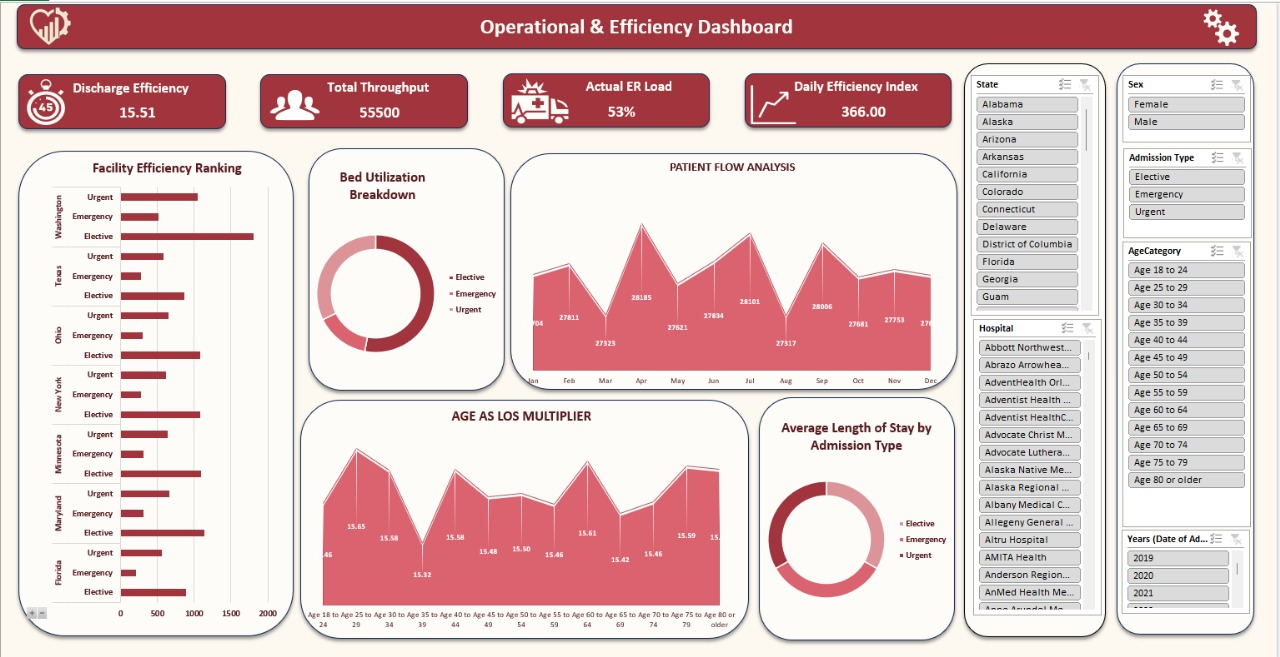

What the dashboard file says about the page in this screenshot:
{"tool":"powerbi","page":{"name":"Duplicate of Efficiency","canvas":[1280,720],"ordinal":2},"visuals":[{"type":"shape","box":[0,620.2,214.8,95.7],"z":0},{"type":"shape","box":[0,0,1280.2,169.8],"z":1000,"group":"g1"},{"type":"shape","box":[-0.4,200.2,214.8,95.7],"z":1000},{"type":"shape","box":[1048,8.6,211.3,194.1],"z":2000,"group":"g1"},{"type":"shape","box":[-0.4,280.4,214.8,95.7],"z":2000},{"type":"shape","box":[9.4,10.4,211.3,193.4],"z":3000,"group":"g1"},{"type":"shape","box":[-0.4,360.6,214.8,95.7],"z":3000},{"type":"shape","box":[0,453.7,214.8,95.7],"z":4000},{"type":"slicer","fields":{"Values":["الجدول2_3.Sex"]},"box":[22.4,23.3,184.6,84.5],"z":5000,"group":"g1"},{"type":"shape","box":[0,537.4,214.8,95.7],"z":5000},{"type":"textbox","box":[302.7,0,444.2,97.5],"z":6000,"group":"g1"},{"type":"cardVisual","fields":{"Data":["الجدول2_3.AVG lenght of stay"]},"box":[0.9,620.2,207,95.7],"z":6000},{"type":"shape","box":[794.3,14.3,235.7,30],"z":7000,"group":"g1"},{"type":"shape","box":[213.8,453.8,523.8,262.5],"z":7000},{"type":"shape","box":[794.3,87.1,235.7,30],"z":8000,"group":"g1"},{"type":"azureMap","fields":{"Category":["الجدول2_3.State"],"Size":["CountNonNull(الجدول2_3.Hospital)"]},"box":[228.6,467.5,494.2,235.5],"z":8000},{"type":"shape","box":[794.3,50,235.7,31.4],"z":9000,"group":"g1"},{"type":"shape","box":[738.3,454.6,541.7,262.2],"z":9000},{"type":"textbox","box":[820,14.3,178.6,35.7],"z":10000,"group":"g1"},{"type":"shape","box":[794.4,117.3,235.5,31.1],"z":10000},{"type":"textbox","box":[800.4,87.1,214.8,41.4],"z":11000,"group":"g1"},{"type":"cardVisual","fields":{"Data":["الجدول2_3.emergency admissions"]},"box":[0,536.5,228.6,95.7],"z":11000},{"type":"textbox","box":[794.4,50,213.9,37.1],"z":12000,"group":"g1"},{"type":"cardVisual","fields":{"Data":["الجدول2_3.total admission"]},"box":[15.5,450.2,192.3,99.2],"z":12000},{"type":"slicer","fields":{"Values":["الجدول2_3.AgeCategory"]},"box":[1060.9,19,186.3,175.1],"z":13000,"group":"g1"},{"type":"cardVisual","fields":{"Data":["الجدول2_3.e_-a_rate"]},"box":[22.9,366.7,183.7,63],"z":13000},{"type":"textbox","box":[8.3,418.4,189.8,34.5],"z":14000},{"type":"cardVisual","fields":{"Data":["الجدول2_3.High Risk Patients %"]},"box":[36.7,195.9,157,77.6],"z":15000},{"type":"textbox","box":[34.1,256.3,138,34.5],"z":16000},{"type":"shape","box":[215.1,196.5,396.5,261.6],"z":17000},{"type":"areaChart","title":"Count of Patient by Year","fields":{"Category":["الجدول2_3.Date of Admission.Variation.Date Hierarchy.Month","الجدول2_3.Discharge Date.Variation.Date Hierarchy.Month"],"Y":["CountNonNull(الجدول2_3.PatientID)"]},"box":[223.8,206.2,376.2,243.8],"z":18000},{"type":"cardVisual","fields":{"Data":["الجدول2_3.Avg Revenue per Day"]},"box":[36.2,291.5,162.2,62.1],"z":19000},{"type":"slicer","fields":{"Values":["الجدول2_3.State"]},"box":[22.6,111.3,186.8,72.6],"z":20000,"group":"g1"},{"type":"shape","box":[611.6,194.2,270.9,261.6],"z":20000},{"type":"pieChart","title":"Relation between  Length of Stay & Admission Type","fields":{"Category":["الجدول2_3.Admission Type"],"Y":["Sum(الجدول2_3.Length of Stay)"]},"box":[625,208.8,248.8,236.2],"z":21000},{"type":"group","id":"g1","title":"Group 1","box":[0,0,1280.2,203.7],"z":22000},{"type":"shape","box":[267.9,86.8,510.3,114.1],"z":22000,"group":"g1"},{"type":"shape","box":[882.6,195.3,396.5,261.6],"z":23000},{"type":"slicer","fields":{"Values":["الجدول2_3.Date of Admission"]},"box":[290,97.5,473.8,97.5],"z":24000,"group":"g1"},{"type":"areaChart","fields":{"Y":["Avg(الجدول2_3.Length of Stay)"],"Category":["الجدول2_3.AgeCategory"]},"box":[892.5,207.5,386.2,242.5],"z":24000},{"type":"textbox","box":[35,336.2,138.8,35],"z":25000},{"type":"clusteredColumnChart","title":"Length of Stay by BMI_Category and Admission Type","fields":{"Category":["Data.BMI_Category"],"Y":["Sum(Data.Length of Stay)"],"Series":["Data.Admission Type"]},"box":[751.3,468.4,515.8,234.6],"z":26000},{"type":"image","box":[216.5,13.8,102.6,88],"z":27000},{"type":"image","box":[48.3,53.5,70.7,38],"z":28000},{"type":"image","box":[110.4,55.2,73.3,36.2],"z":29000}]}

Visuals, with their boxes on the page's 1280x720 design canvas (x1, y1, x2, y2). These are canvas units, not pixel positions in the 1280x657 screenshot, which may show the page scaled, cropped or inside an application window:
shape: {"left": 0, "top": 620, "right": 215, "bottom": 716}
shape: {"left": 0, "top": 0, "right": 1280, "bottom": 170}
shape: {"left": 0, "top": 200, "right": 214, "bottom": 296}
shape: {"left": 1048, "top": 9, "right": 1259, "bottom": 203}
shape: {"left": 0, "top": 280, "right": 214, "bottom": 376}
shape: {"left": 9, "top": 10, "right": 221, "bottom": 204}
shape: {"left": 0, "top": 361, "right": 214, "bottom": 456}
shape: {"left": 0, "top": 454, "right": 215, "bottom": 549}
slicer - الجدول2_3.Sex: {"left": 22, "top": 23, "right": 207, "bottom": 108}
shape: {"left": 0, "top": 537, "right": 215, "bottom": 633}
textbox: {"left": 303, "top": 0, "right": 747, "bottom": 98}
cardVisual - الجدول2_3.AVG lenght of stay: {"left": 1, "top": 620, "right": 208, "bottom": 716}
shape: {"left": 794, "top": 14, "right": 1030, "bottom": 44}
shape: {"left": 214, "top": 454, "right": 738, "bottom": 716}
shape: {"left": 794, "top": 87, "right": 1030, "bottom": 117}
azureMap - الجدول2_3.State x CountNonNull(الجدول2_3.Hospital): {"left": 229, "top": 468, "right": 723, "bottom": 703}
shape: {"left": 794, "top": 50, "right": 1030, "bottom": 81}
shape: {"left": 738, "top": 455, "right": 1280, "bottom": 717}
textbox: {"left": 820, "top": 14, "right": 999, "bottom": 50}
shape: {"left": 794, "top": 117, "right": 1030, "bottom": 148}
textbox: {"left": 800, "top": 87, "right": 1015, "bottom": 128}
cardVisual - الجدول2_3.emergency admissions: {"left": 0, "top": 536, "right": 229, "bottom": 632}
textbox: {"left": 794, "top": 50, "right": 1008, "bottom": 87}
cardVisual - الجدول2_3.total admission: {"left": 16, "top": 450, "right": 208, "bottom": 549}
slicer - الجدول2_3.AgeCategory: {"left": 1061, "top": 19, "right": 1247, "bottom": 194}
cardVisual - الجدول2_3.e_-a_rate: {"left": 23, "top": 367, "right": 207, "bottom": 430}
textbox: {"left": 8, "top": 418, "right": 198, "bottom": 453}
cardVisual - الجدول2_3.High Risk Patients %: {"left": 37, "top": 196, "right": 194, "bottom": 274}
textbox: {"left": 34, "top": 256, "right": 172, "bottom": 291}
shape: {"left": 215, "top": 196, "right": 612, "bottom": 458}
"Count of Patient by Year" areaChart: {"left": 224, "top": 206, "right": 600, "bottom": 450}
cardVisual - الجدول2_3.Avg Revenue per Day: {"left": 36, "top": 292, "right": 198, "bottom": 354}
slicer - الجدول2_3.State: {"left": 23, "top": 111, "right": 209, "bottom": 184}
shape: {"left": 612, "top": 194, "right": 882, "bottom": 456}
"Relation between  Length of Stay & Admission Type" pieChart: {"left": 625, "top": 209, "right": 874, "bottom": 445}
"Group 1" group: {"left": 0, "top": 0, "right": 1280, "bottom": 204}
shape: {"left": 268, "top": 87, "right": 778, "bottom": 201}
shape: {"left": 883, "top": 195, "right": 1279, "bottom": 457}
slicer - الجدول2_3.Date of Admission: {"left": 290, "top": 98, "right": 764, "bottom": 195}
areaChart - Avg(الجدول2_3.Length of Stay) x الجدول2_3.AgeCategory: {"left": 892, "top": 208, "right": 1279, "bottom": 450}
textbox: {"left": 35, "top": 336, "right": 174, "bottom": 371}
"Length of Stay by BMI_Category and Admission Type" clusteredColumnChart: {"left": 751, "top": 468, "right": 1267, "bottom": 703}
image: {"left": 216, "top": 14, "right": 319, "bottom": 102}
image: {"left": 48, "top": 54, "right": 119, "bottom": 92}
image: {"left": 110, "top": 55, "right": 184, "bottom": 91}
